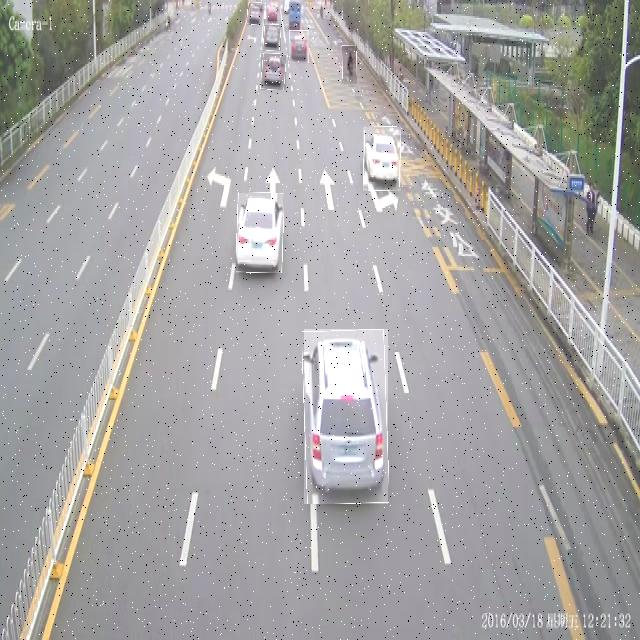Car: (304, 329, 388, 504), (237, 193, 283, 273), (363, 127, 401, 191), (261, 54, 286, 90), (289, 30, 309, 63), (263, 25, 281, 51), (248, 3, 266, 25)
Motorcycle: (342, 45, 357, 84)
